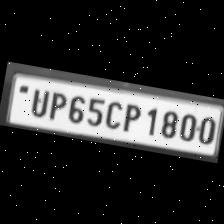0: (194, 112, 217, 145), (176, 108, 198, 142)
1: (138, 103, 160, 136)
5: (82, 92, 106, 128)
6: (62, 90, 86, 125)
8: (156, 106, 180, 140)
C: (100, 96, 124, 130)
P: (118, 99, 143, 134), (44, 88, 67, 122)
U: (24, 84, 50, 118)
